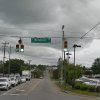Traffic light: (8, 31, 32, 62)
